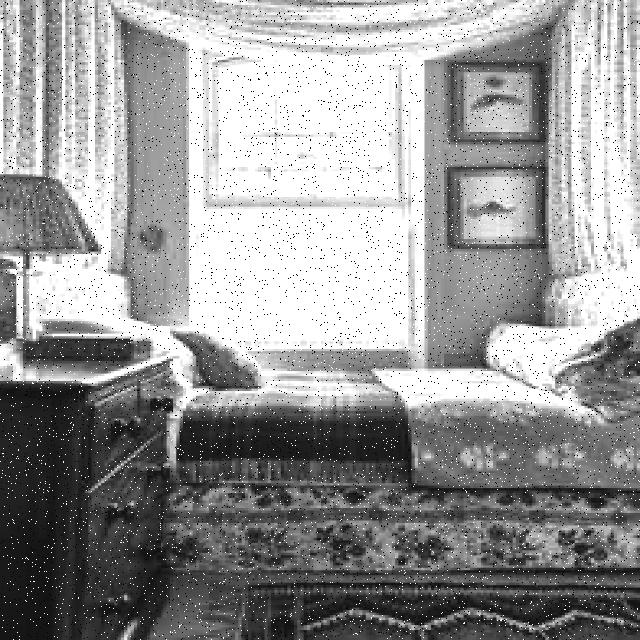bed: (155, 257, 640, 520)
